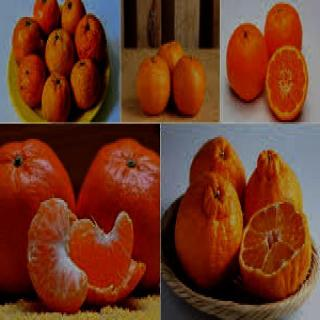orange: (78, 122, 164, 310), (0, 124, 77, 302), (238, 190, 311, 316), (168, 176, 248, 290), (21, 182, 90, 310), (71, 198, 149, 311), (222, 20, 267, 108), (135, 50, 171, 131), (15, 44, 49, 124), (68, 53, 104, 122), (43, 66, 73, 132)
